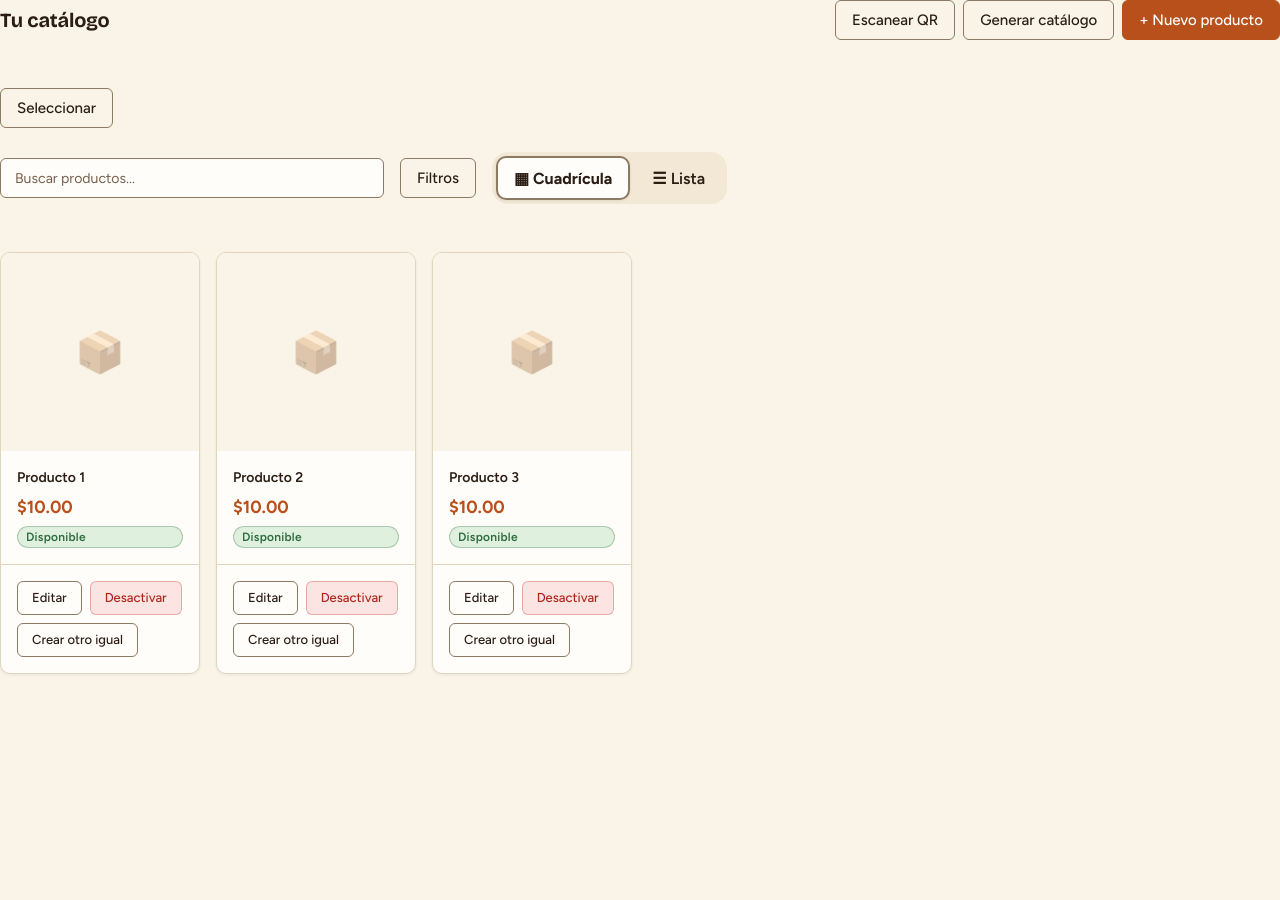
it: ProductCatalogView — selección para imprimir códigos QR › "Imprimir códigos QR" abre el diálogo con el número de etiquetas
The image size is (1280, 900).
Click the button "Seleccionar" at (56, 108), box [0,88,113,128]
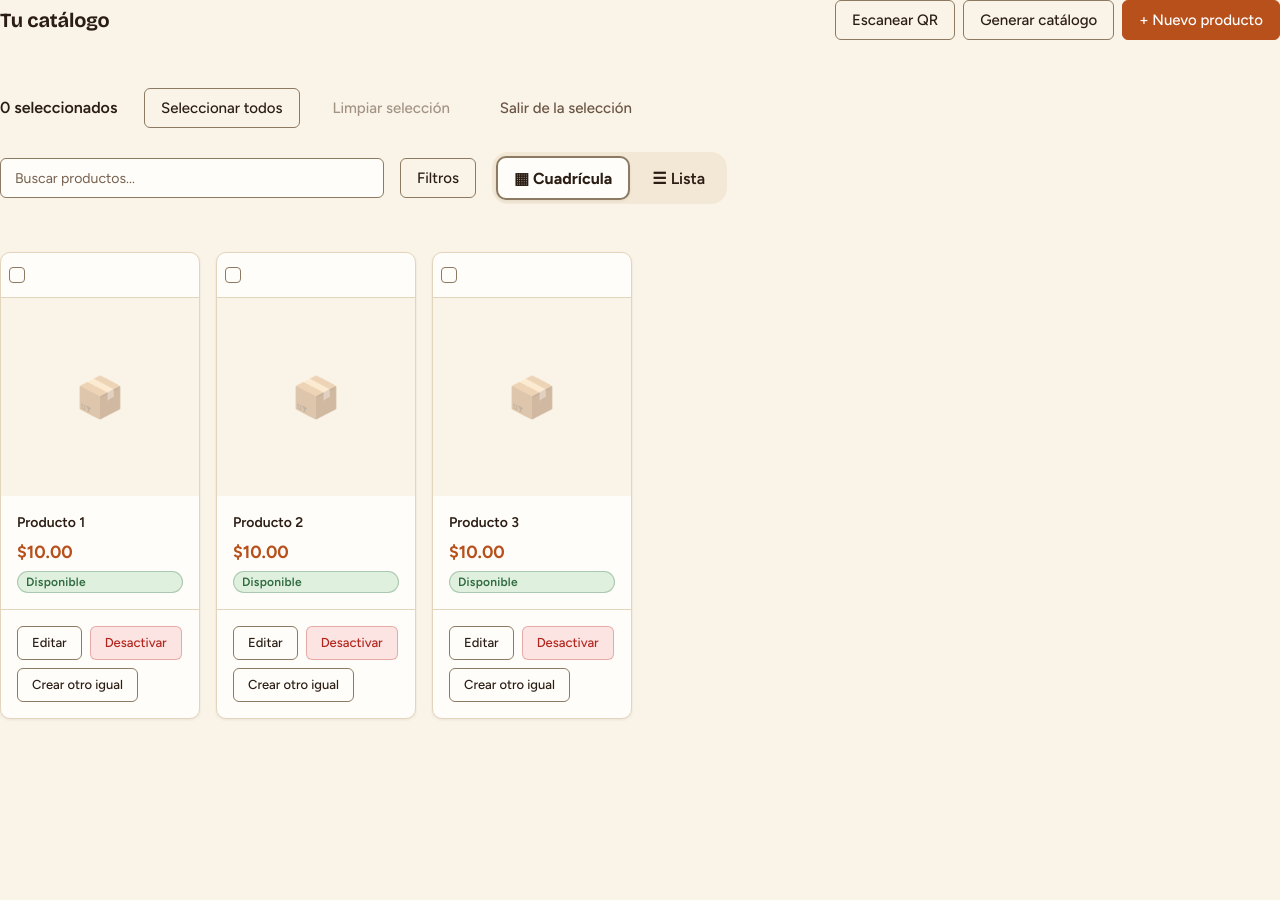
Click the checkbox named "Seleccionar Producto 1 para imprimir su código QR" at (17, 275), box [9,267,25,283]
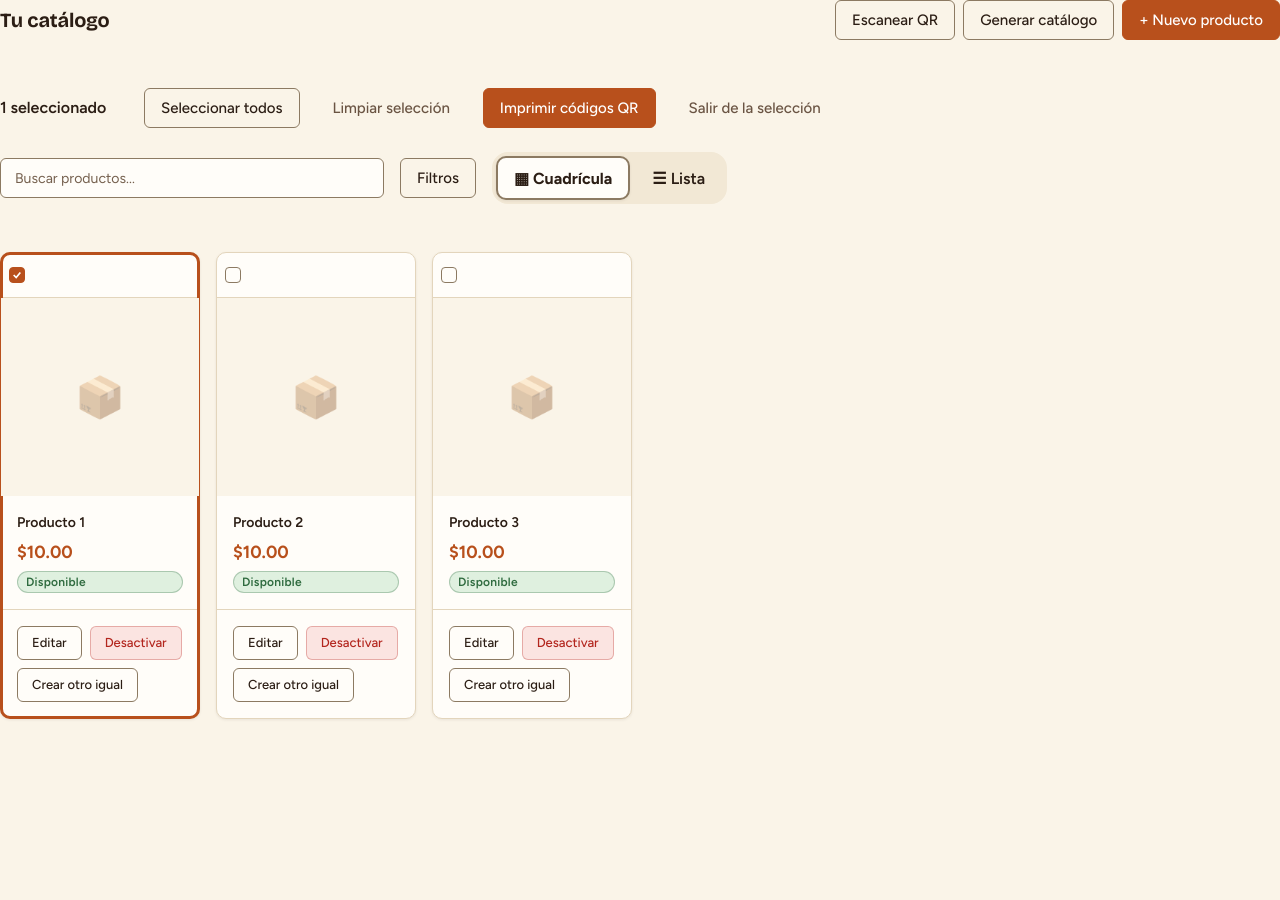
Click the checkbox named "Seleccionar Producto 2 para imprimir su código QR" at (233, 275), box [225,267,241,283]
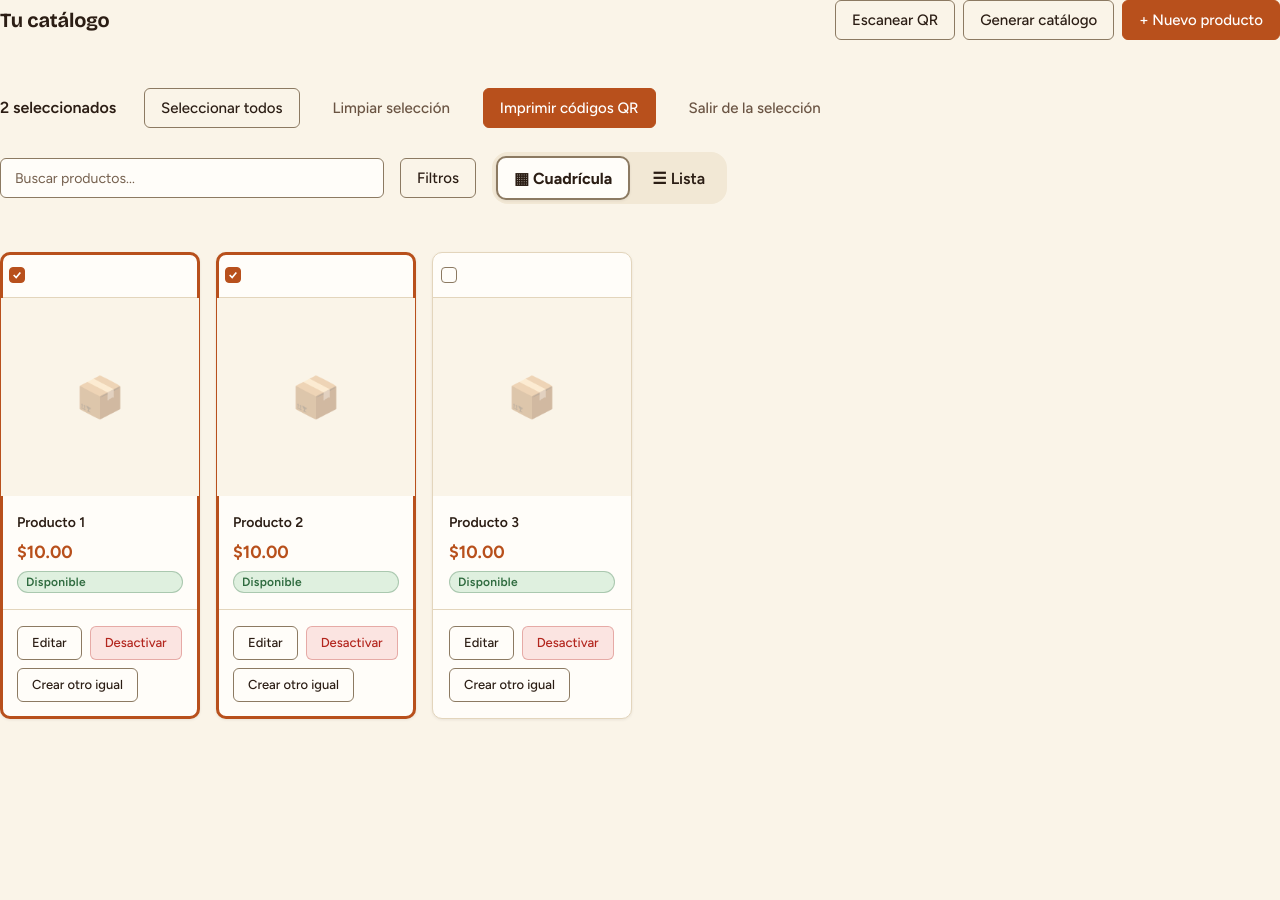
Click the checkbox named "Seleccionar Producto 3 para imprimir su código QR" at (449, 275), box [441,267,457,283]
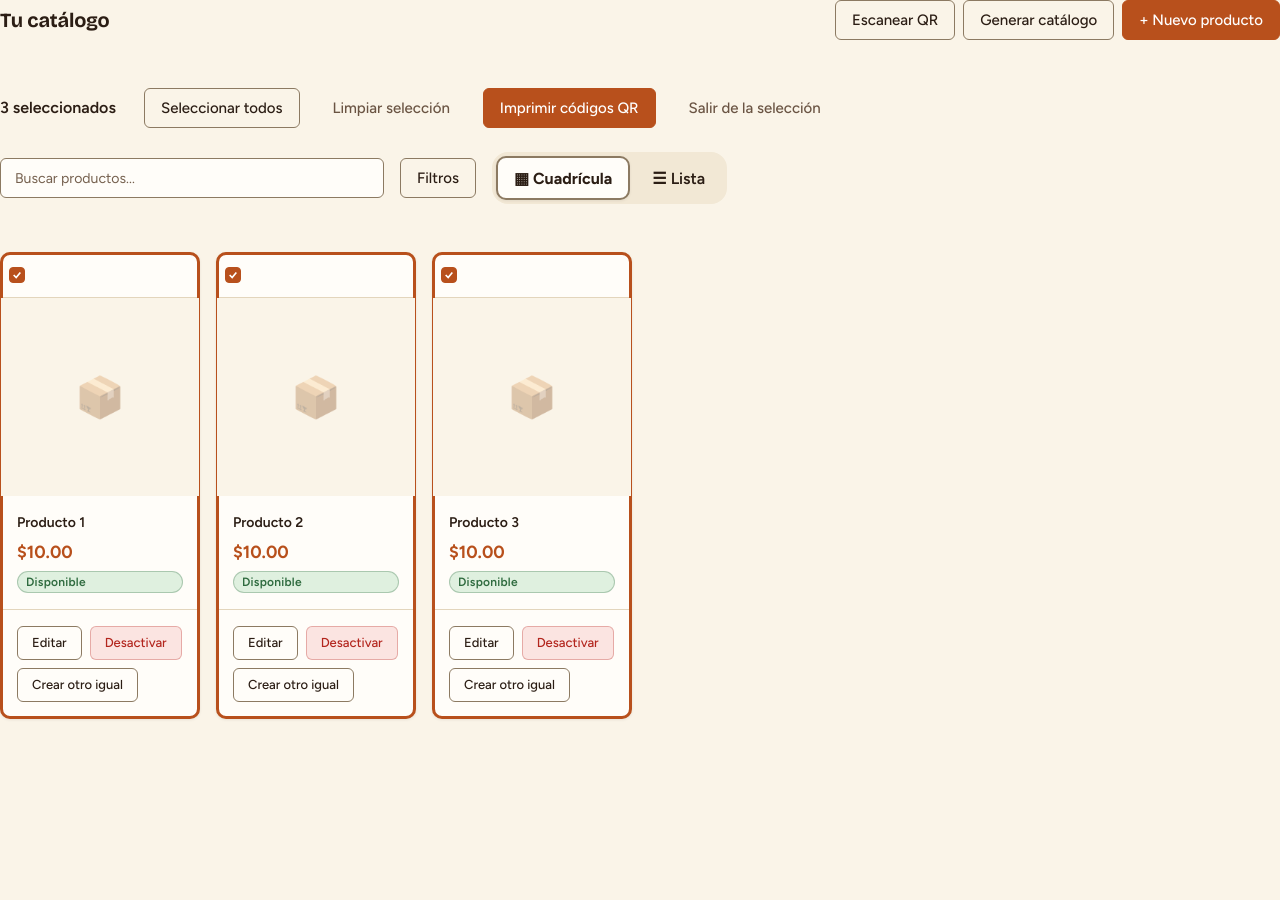
Click the button "Imprimir códigos QR" at (569, 108), box [483,88,656,128]
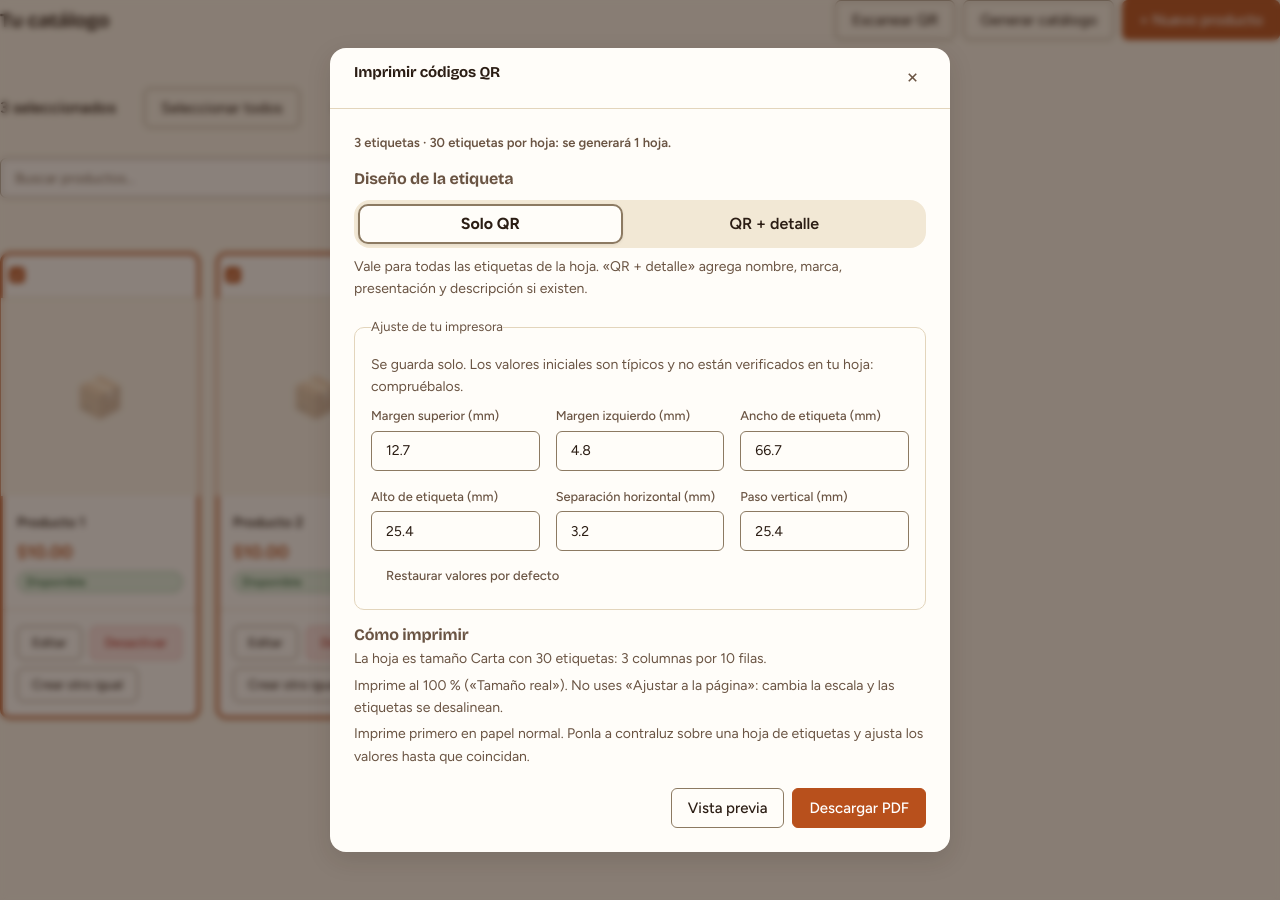
Expected: the text "Imprimir códigos QR" is shown, [483,88,656,128]
Expected: the text "3 etiquetas" is shown, [354,135,671,150]
Expected: the text "1 hoja" is shown, [354,135,671,150]
